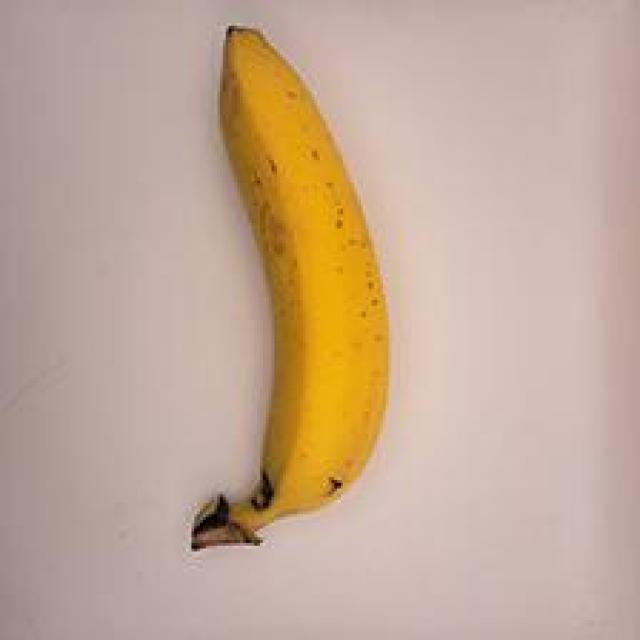ripe: (135, 17, 408, 571)
